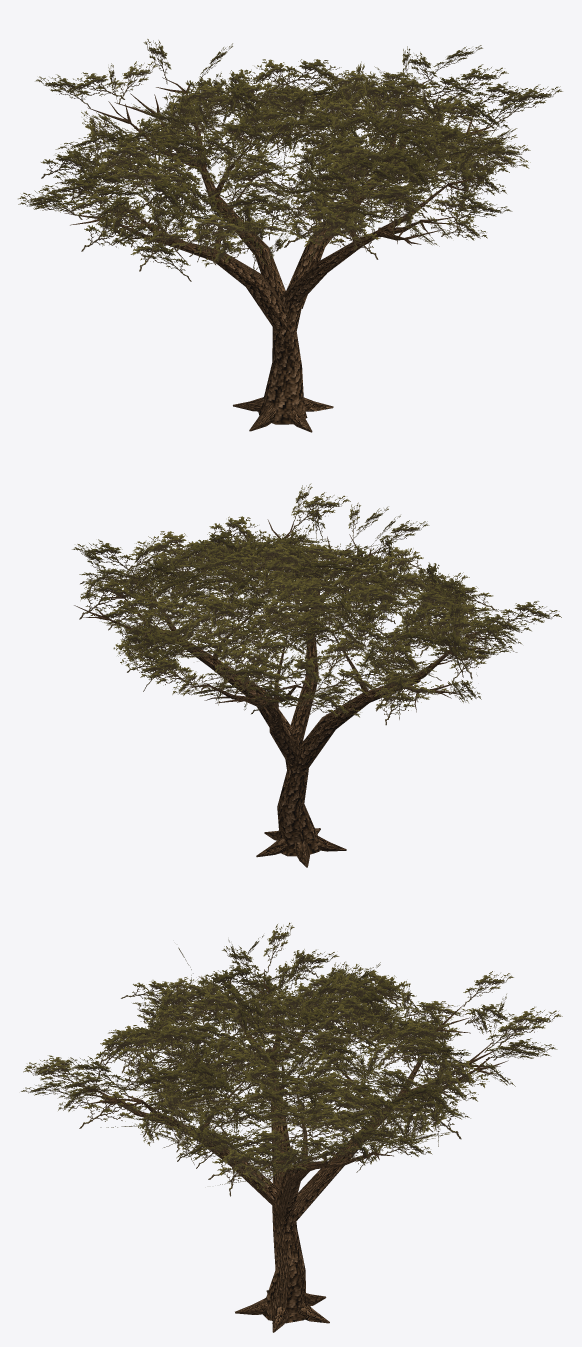
The model's file is Acacia_Savana.glb.
3 renders of one model, top to bottom at view 1: azimuth 30°, elevation 25°; view 2: azimuth 150°, elevation 25°; view 3: azimuth 270°, elevation 25°, orthographic. The views are drawn at different scales.
Visible parts, largest first — view 1: Folhagem fina, Ramos principais, Tronco e raizes, Ramos secundarios, Galharia terminal; view 2: Folhagem fina, Ramos principais, Tronco e raizes, Ramos secundarios, Galharia terminal; view 3: Folhagem fina, Tronco e raizes, Ramos principais, Ramos secundarios, Galharia terminal.
Boxes of the visible parts, <box> form: Folhagem fina: <box>18,39,562,292</box>; Ramos principais: <box>166,154,390,331</box>; Tronco e raizes: <box>233,292,333,432</box>; Ramos secundarios: <box>108,94,463,249</box>; Galharia terminal: <box>64,77,505,245</box>; Folhagem fina: <box>72,483,561,725</box>; Ramos principais: <box>173,592,420,771</box>; Tronco e raizes: <box>256,738,346,867</box>; Ramos secundarios: <box>108,559,463,709</box>; Galharia terminal: <box>74,519,499,706</box>; Folhagem fina: <box>21,922,562,1196</box>; Tronco e raizes: <box>235,1206,329,1332</box>; Ramos principais: <box>174,1048,411,1227</box>; Ramos secundarios: <box>98,1008,475,1171</box>; Galharia terminal: <box>72,969,508,1171</box>.
Size of the model in its own units: 12.06 by 6.96 by 11.43.
Materials: 2 (2 with a texture image).
